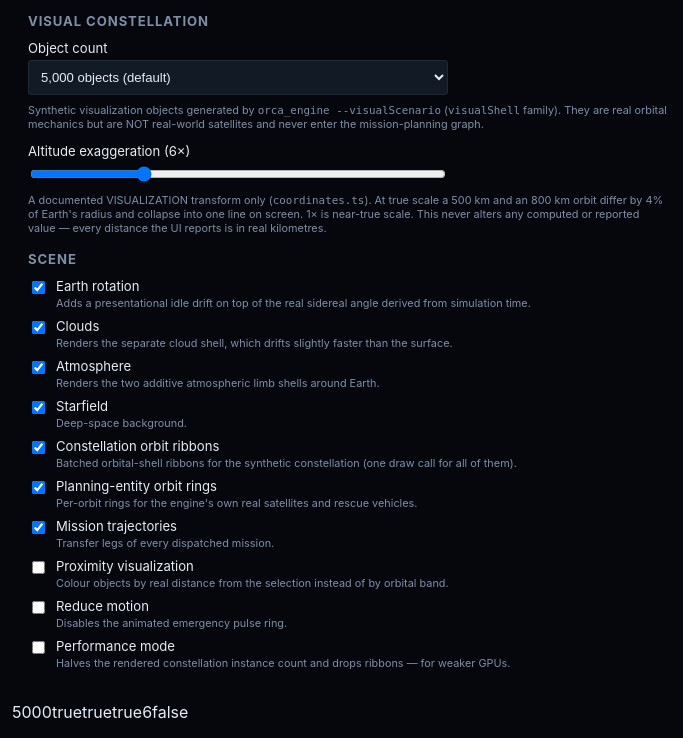
Scenario: SettingsPage (Phase 12: every control is real) › the altitude-exaggeration slider updates the shared UI state
Set the slider to "15": (333,174) [30,165,446,183]
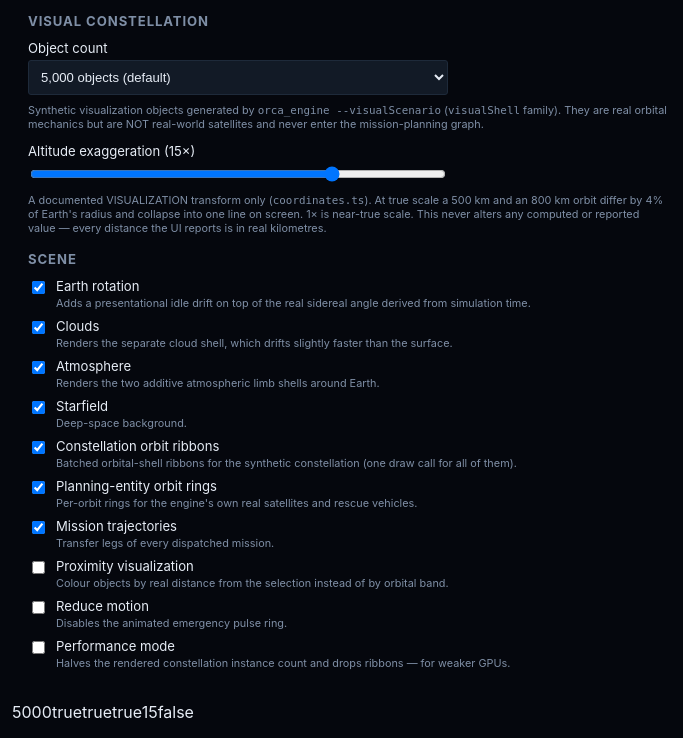
Check: the text with test id "exag" reads "15", box [142,702,158,722]
